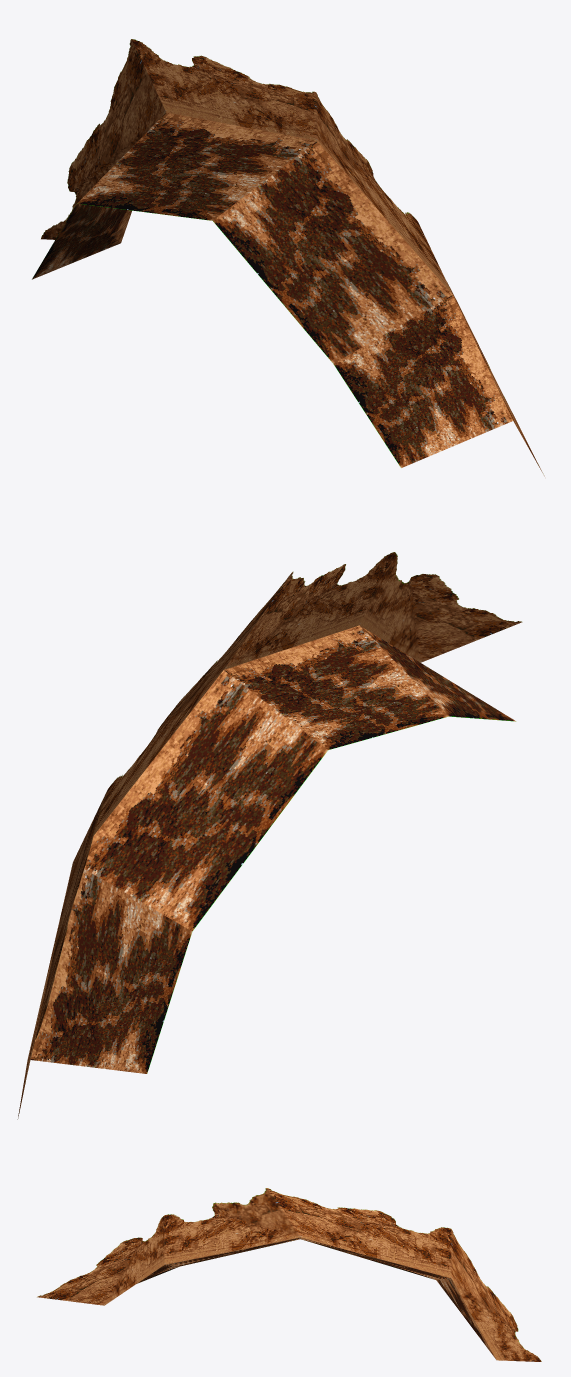
Rendered from _TR1RCK.obj.
The picture shows the model from 3 angles, top to bottom: view 1: azimuth 30°, elevation 25°; view 2: azimuth 150°, elevation 25°; view 3: azimuth 270°, elevation 25°; orthographic projection. The views are drawn at different scales.
Bounding box in the file's own units: 208 × 728 × 1872.
Materials: 1 (1 with a texture image).
